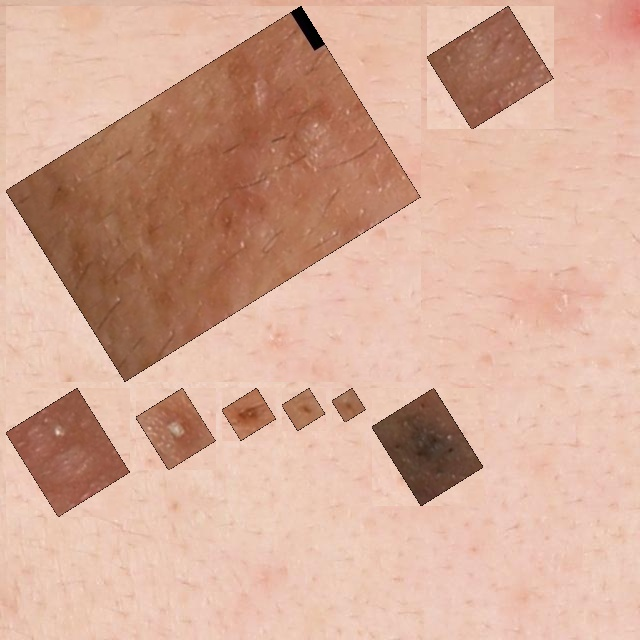hypertrophic_scar: (17, 399, 119, 505), (438, 17, 542, 118)
melasma: (17, 17, 409, 370)
nevus: (383, 399, 472, 495), (233, 399, 265, 429), (293, 399, 314, 419), (343, 399, 355, 411)
pustule: (147, 399, 204, 459)
